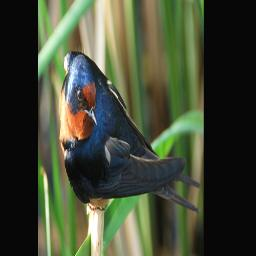Swallow: (57, 47, 201, 216)
